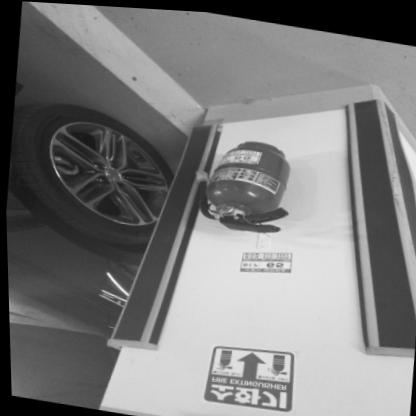FE: (193, 129, 298, 235)
